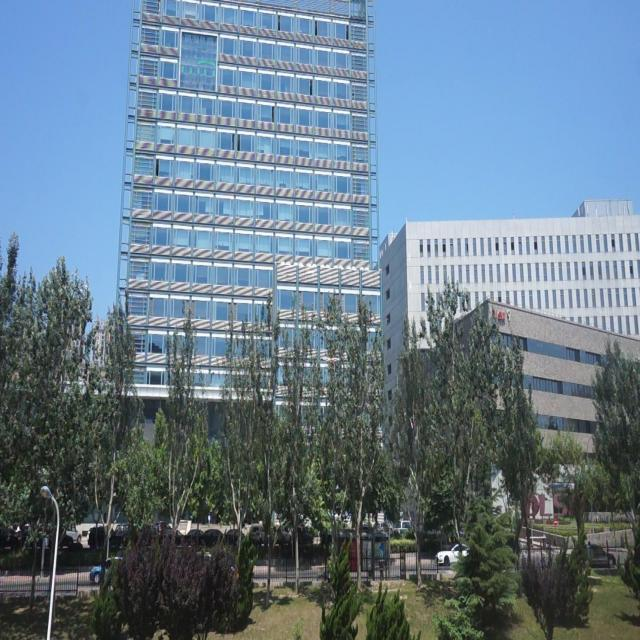UAV: (323, 356, 341, 369)
